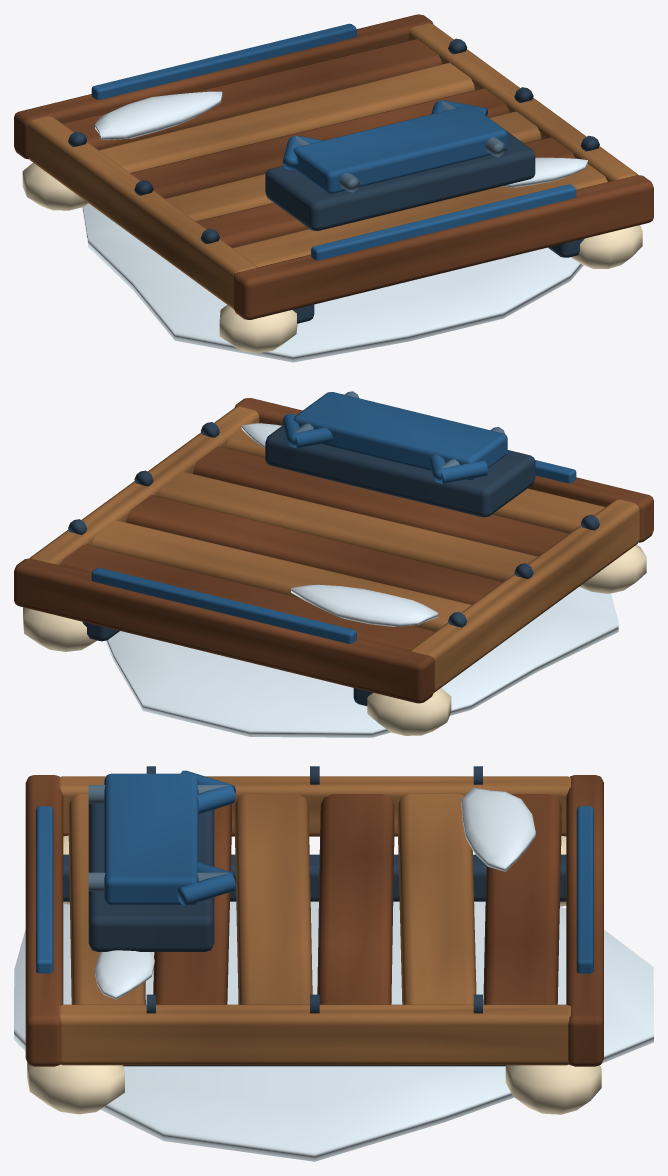
Rendered from pad_output.glb.
3 views of the same model, one above another, from view 1: azimuth 30°, elevation 25°; view 2: azimuth 150°, elevation 25°; view 3: azimuth 270°, elevation 25° (orthographic). The views are drawn at different scales.
Visible parts, largest first — view 1: pad_output; view 2: pad_output; view 3: pad_output.
Boxes of the visible parts, left/top/right/bottom form: pad_output: left=14, top=14, right=653, bottom=362; pad_output: left=14, top=391, right=653, bottom=737; pad_output: left=14, top=766, right=653, bottom=1161.
Size of the model in its own units: 2.14 by 0.725 by 2.04.
